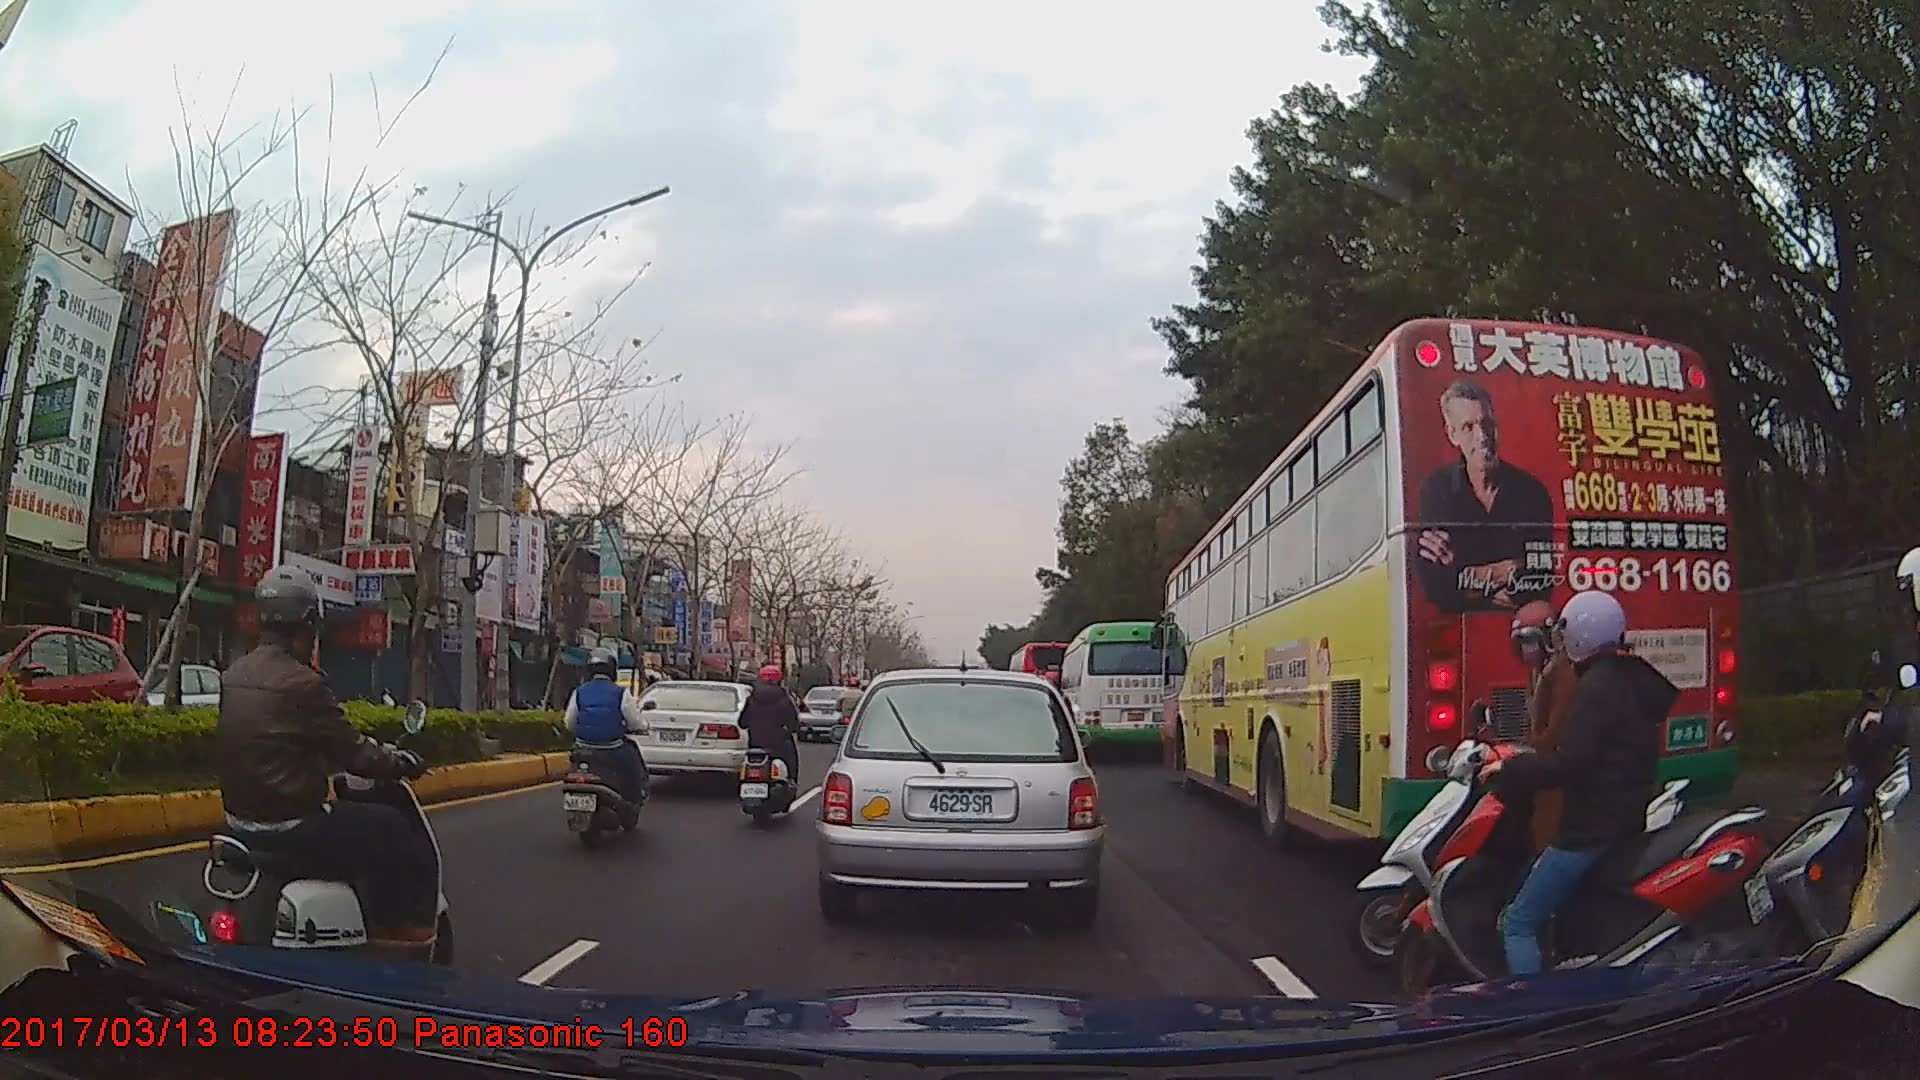rider: (1396, 585, 1766, 1044), (1338, 600, 1686, 977), (198, 555, 454, 972), (1769, 545, 1920, 977), (554, 644, 649, 854), (737, 664, 801, 828), (838, 673, 870, 756)
vehicle: (1163, 316, 1742, 861), (818, 663, 1103, 919), (618, 679, 788, 800), (0, 624, 147, 763), (1054, 622, 1181, 760), (103, 661, 256, 746), (1004, 642, 1083, 723)
